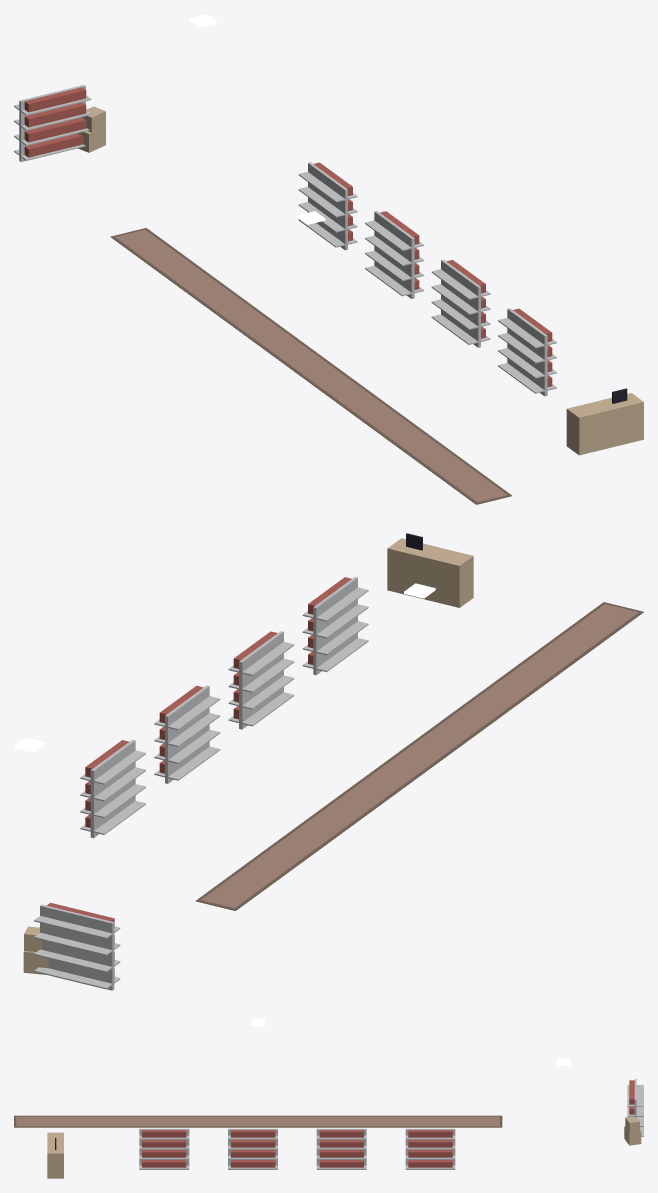
File: fine-s0.glb
3 renders of one model, top to bottom at view 1: azimuth 30°, elevation 25°; view 2: azimuth 150°, elevation 25°; view 3: azimuth 270°, elevation 25°, orthographic. The views are drawn at different scales.
Parts seen in each view (by area): view 1: soft-s0, shelving.000, shop-counter.000, shelf.001, shelf.003, shelf.002, shelf.000, cardboard-box.000; view 2: soft-s0, shelving.000, shop-counter.000, shelf.000, shelf.001, shelf.002, shelf.003, cardboard-box.000; view 3: soft-s0, shelf.001, shelf.003, shelf.000, shelf.002, shop-counter.000, shelving.000, cardboard-box.000.
Boxes of the visible parts, x1,y1,x2,y2 form: soft-s0: (110, 228, 511, 504); shelving.000: (14, 85, 91, 161); shop-counter.000: (566, 388, 643, 455); shelf.001: (365, 211, 423, 298); shelf.003: (498, 308, 556, 396); shelf.002: (431, 259, 490, 347); shelf.000: (298, 162, 357, 250); cardboard-box.000: (77, 106, 105, 152); soft-s0: (196, 602, 643, 910); shelving.000: (34, 902, 120, 990); shop-counter.000: (387, 533, 473, 607); shelf.000: (80, 739, 145, 838); shelf.001: (154, 685, 220, 783); shelf.002: (228, 631, 294, 729); shelf.003: (302, 577, 368, 675); cardboard-box.000: (23, 926, 48, 974); soft-s0: (14, 1115, 502, 1127); shelf.001: (316, 1128, 366, 1169); shelf.003: (139, 1128, 189, 1169); shelf.000: (405, 1128, 455, 1169); shelf.002: (228, 1128, 277, 1169); shop-counter.000: (47, 1132, 63, 1178); shelving.000: (627, 1079, 643, 1136); cardboard-box.000: (624, 1117, 641, 1145).
Size of the model in its own units: 5.35 by 3.97 by 22.72.
